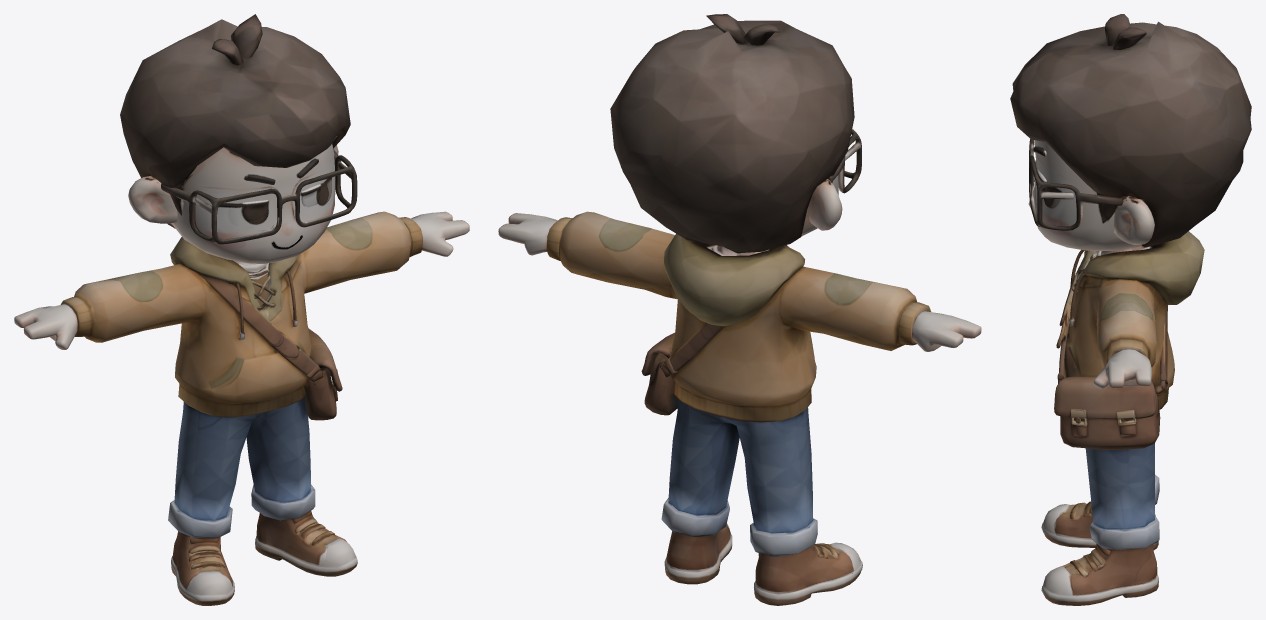
File: stylized_character.glb
The picture shows the model from 3 angles, left to right: view 1: azimuth 30°, elevation 25°; view 2: azimuth 150°, elevation 25°; view 3: azimuth 270°, elevation 25°; orthographic projection. The views are drawn at different scales.
Parts seen in each view (by area): view 1: tripo_node_5fd74650; view 2: tripo_node_5fd74650; view 3: tripo_node_5fd74650.
Part boxes in pixels (left/top/right/bottom): tripo_node_5fd74650: left=14, top=14, right=469, bottom=605; tripo_node_5fd74650: left=498, top=14, right=981, bottom=605; tripo_node_5fd74650: left=1010, top=14, right=1251, bottom=605.
Bounding box in the file's own units: 0.8618 × 0.9995 × 0.4009.
1 material, 1 textured.
